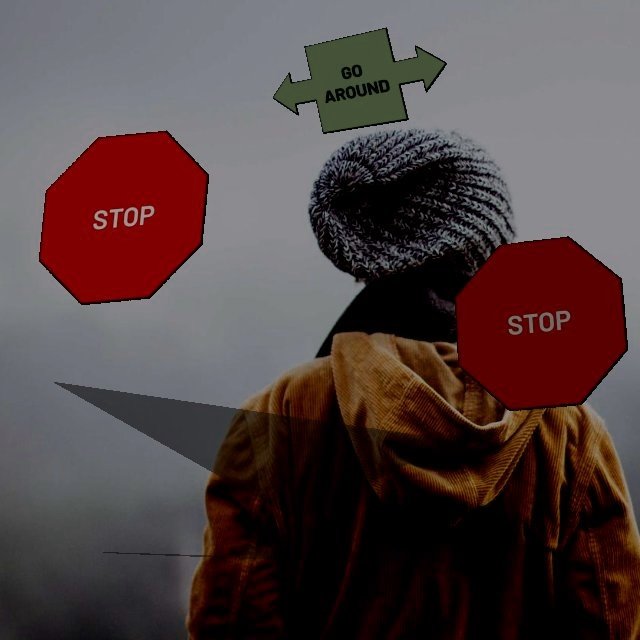GO_AROUND: (272, 27, 447, 134)
STOP: (454, 236, 628, 411), (38, 130, 209, 305)
